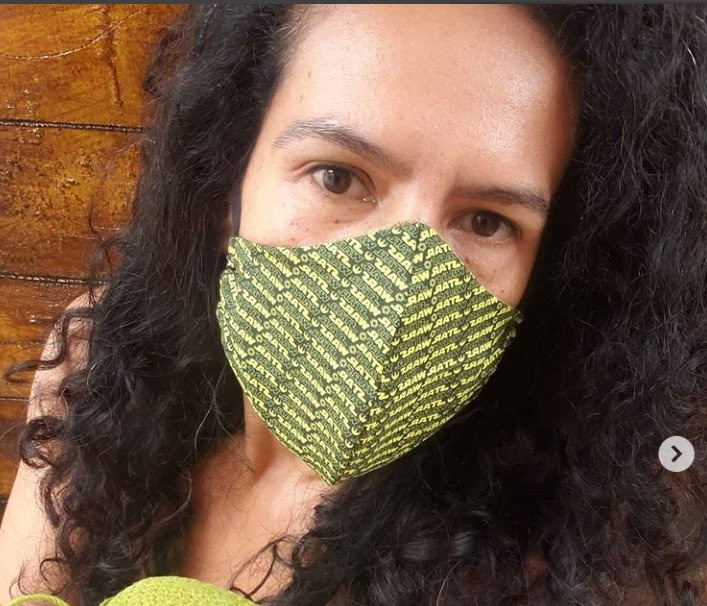face_with_mask: (211, 5, 578, 490)
